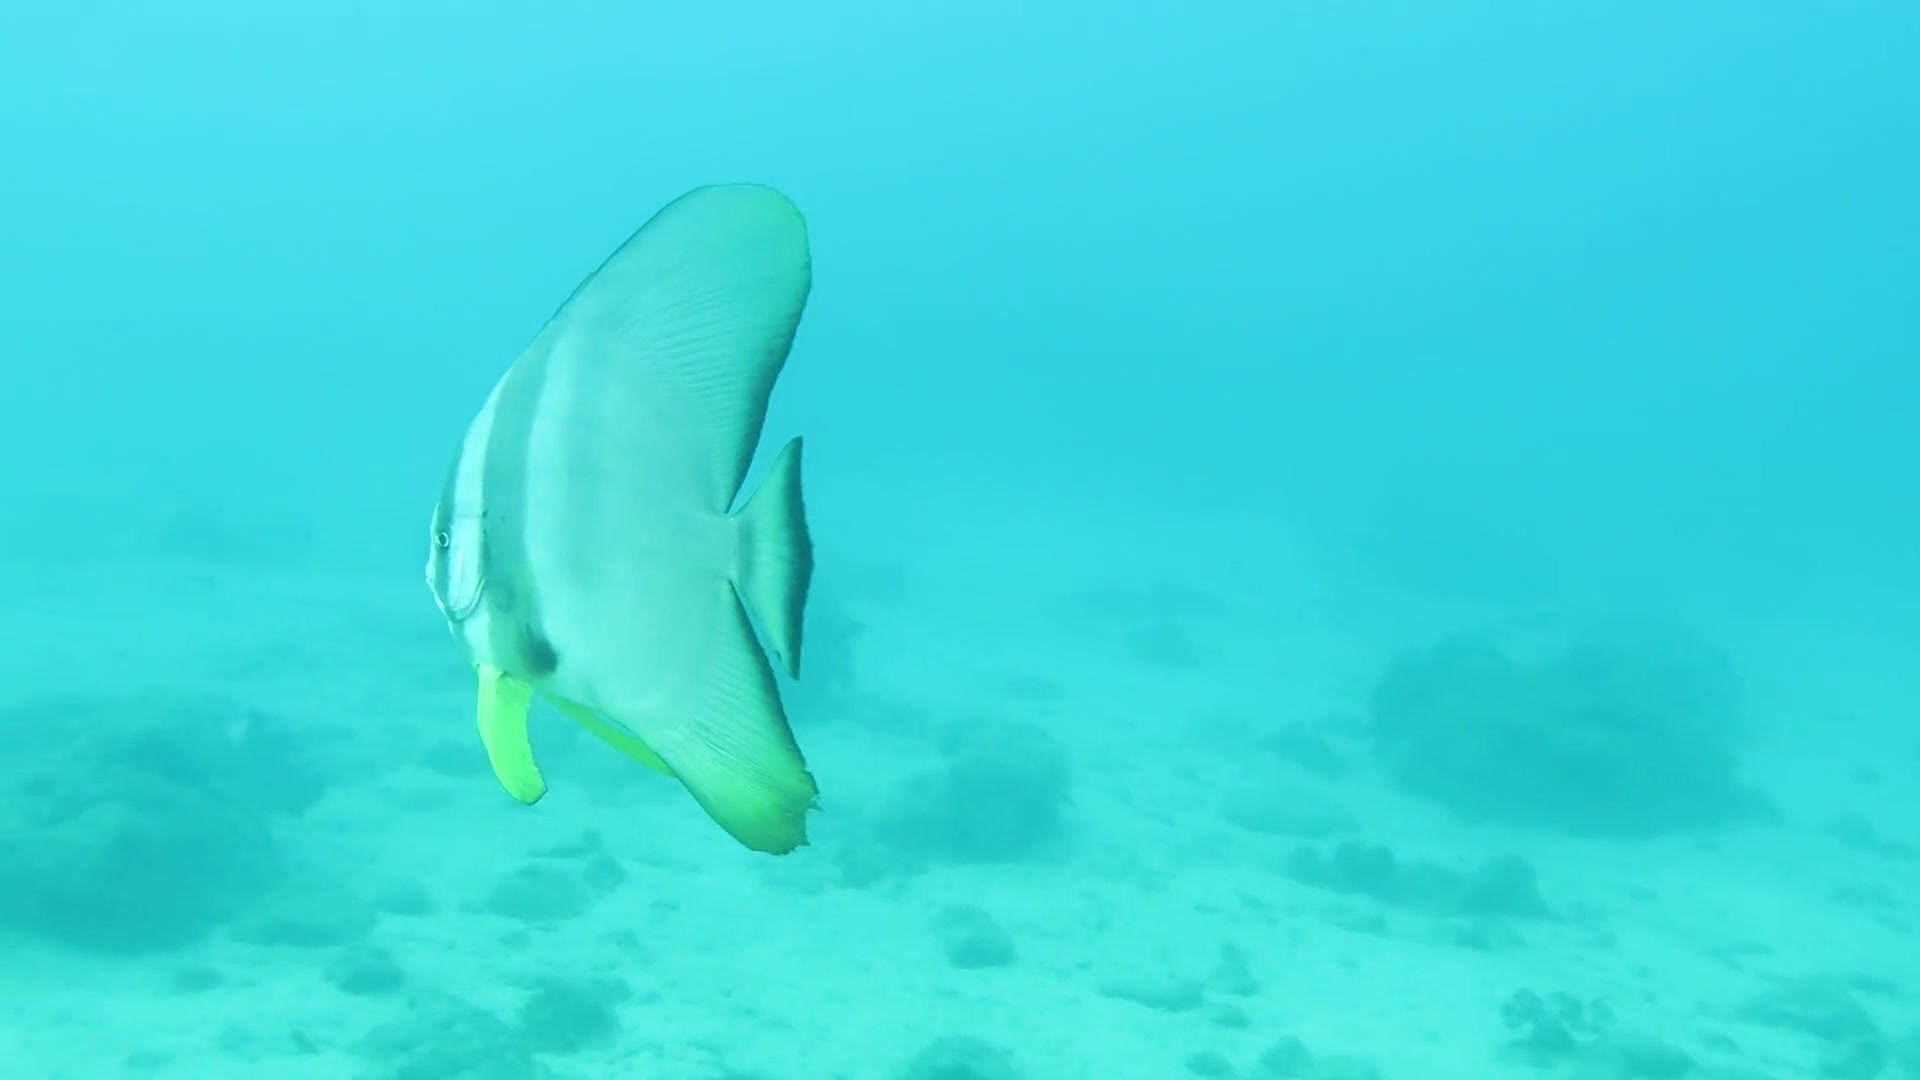Platax teira: (336, 157, 1004, 873)
